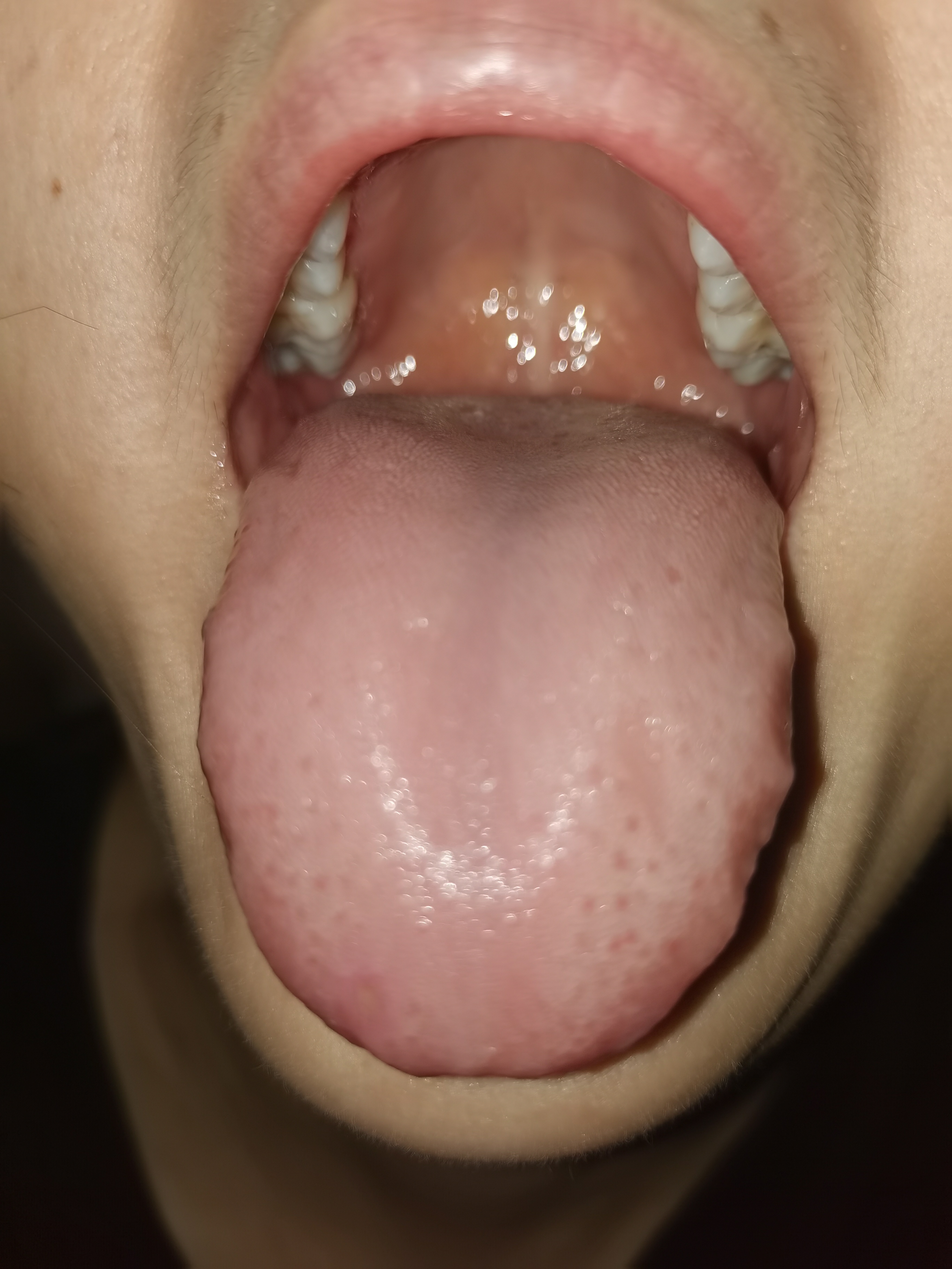baitaishe: (198, 391, 793, 1077)
chihenshe: (713, 652, 791, 905)
hongdianshe: (581, 805, 687, 961)
